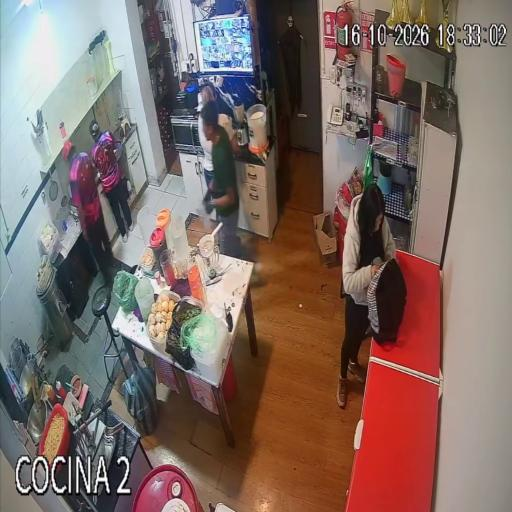Envase Ketchup: (56, 381, 65, 400)
Envase Llajua: (43, 383, 54, 402)
Jarra1: (150, 227, 167, 273)
Jarra2: (156, 209, 172, 247)
Jarra3: (171, 215, 189, 261)
Jarra4: (134, 278, 154, 321)
Microondas: (171, 110, 203, 154)
Persona1: (62, 140, 113, 283)
Persona2: (90, 120, 133, 242)
Persona3: (198, 85, 217, 191), (218, 114, 234, 148)
Persona4: (200, 101, 245, 258)
Persona5: (337, 185, 396, 408)
Taper: (40, 223, 61, 264)
Taper2: (181, 304, 230, 381)
Taper3: (166, 297, 203, 369)
Taper4: (146, 290, 180, 351)
